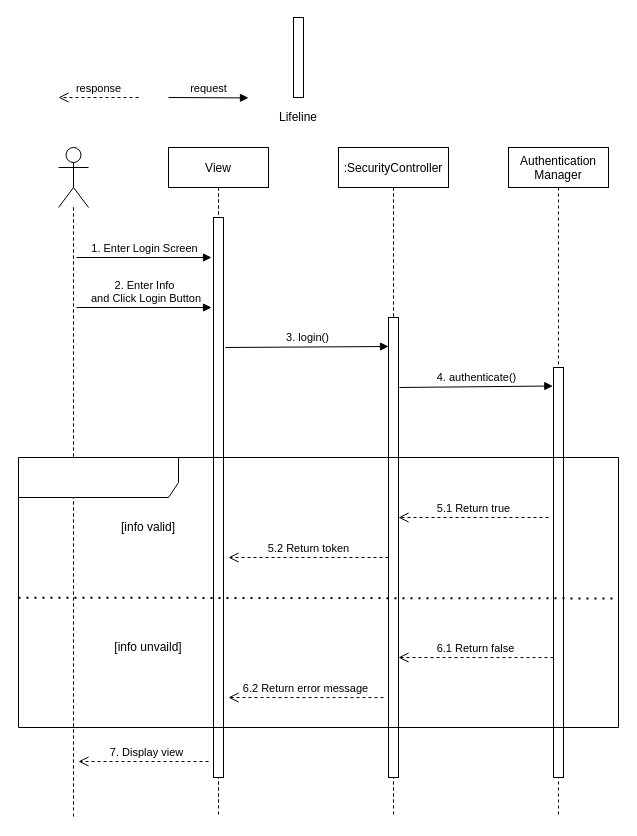
Image size: 637x836. Some labels were removed from this diagram. Each missing label, with the box of its shape:
at authenticate(): (18, 456, 618, 728)
User: (58, 146, 88, 208)
